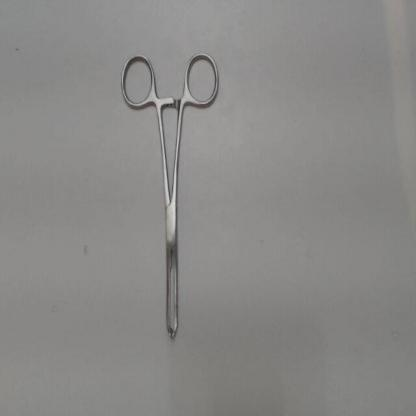Allis Tissue Forceps: (113, 47, 228, 355)
